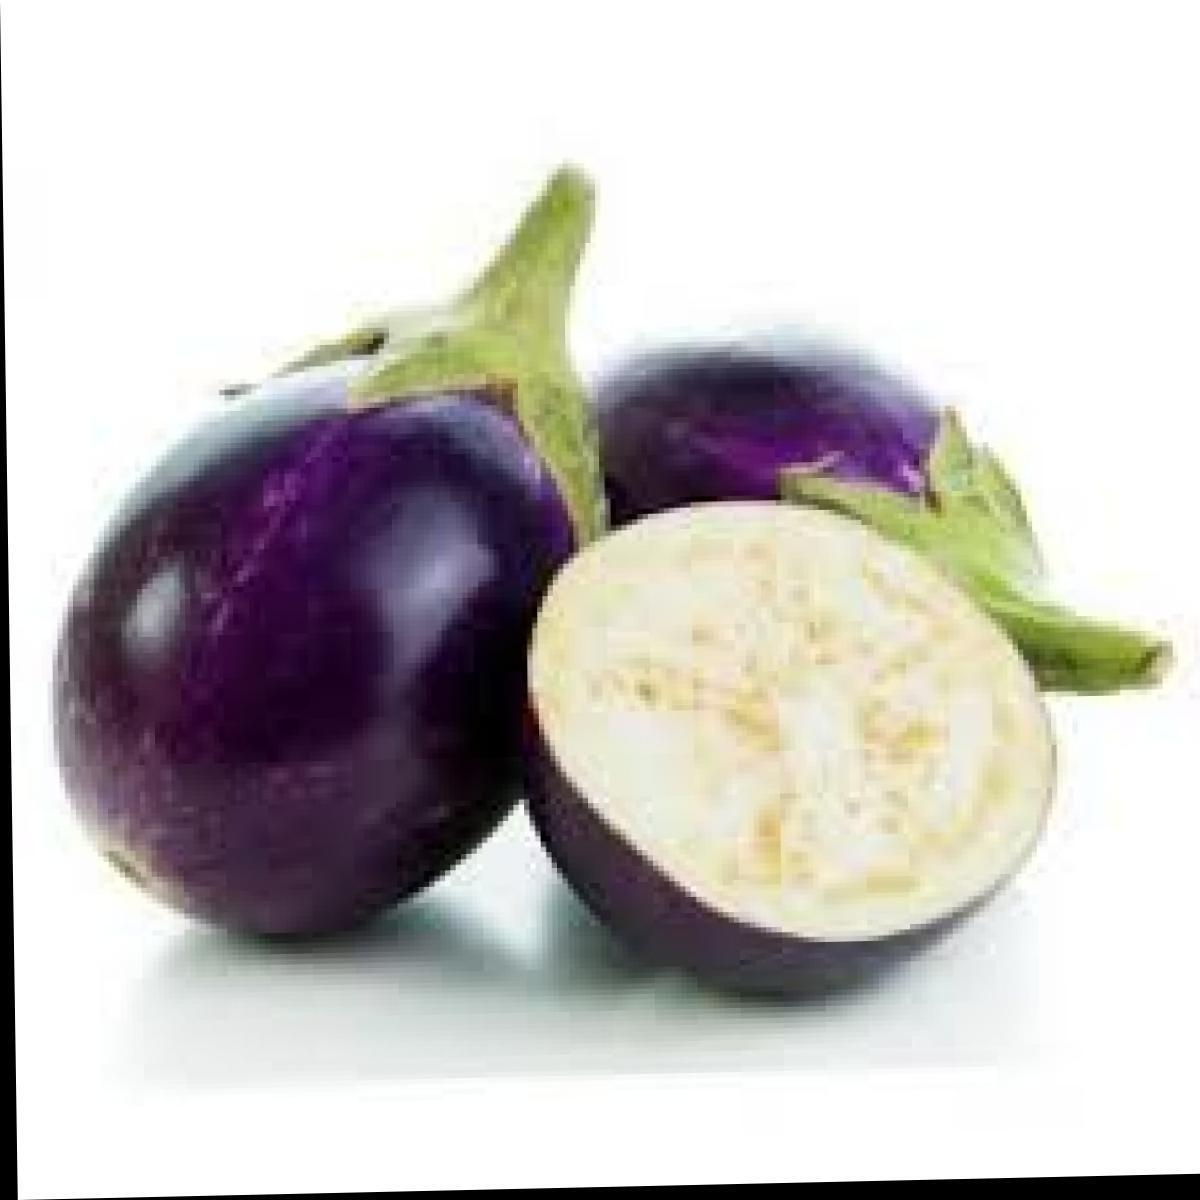eggplant: (144, 210, 1075, 986)
